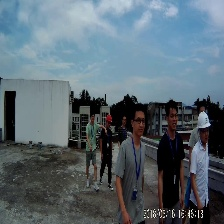helmet: (196, 113, 212, 131)
no-helmet: (131, 104, 147, 124), (163, 97, 182, 113)
no-vest: (160, 139, 183, 206), (122, 146, 144, 208), (192, 148, 209, 208), (102, 129, 111, 158), (88, 124, 96, 152)
person: (116, 105, 149, 224), (157, 97, 185, 224), (191, 103, 212, 223), (100, 111, 115, 191), (86, 109, 100, 192)
